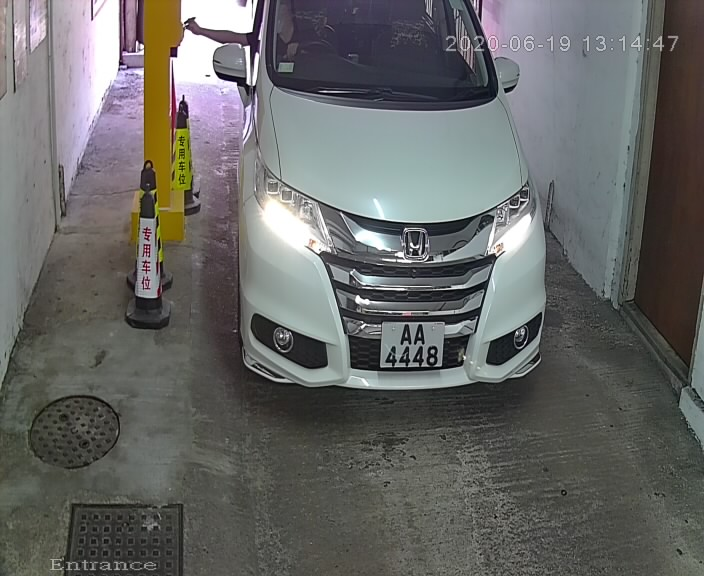privatecar: (192, 3, 577, 414)
